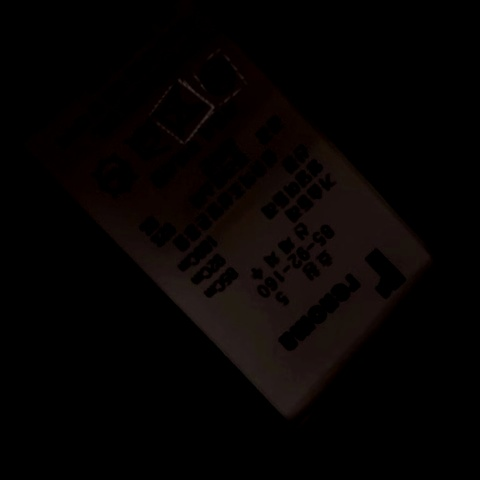DN_wash: (153, 85, 212, 136)
dry_clean_petrol_only: (197, 52, 243, 98)
iron_low: (121, 119, 173, 166)
line_dry_in_shade: (90, 153, 146, 201)
